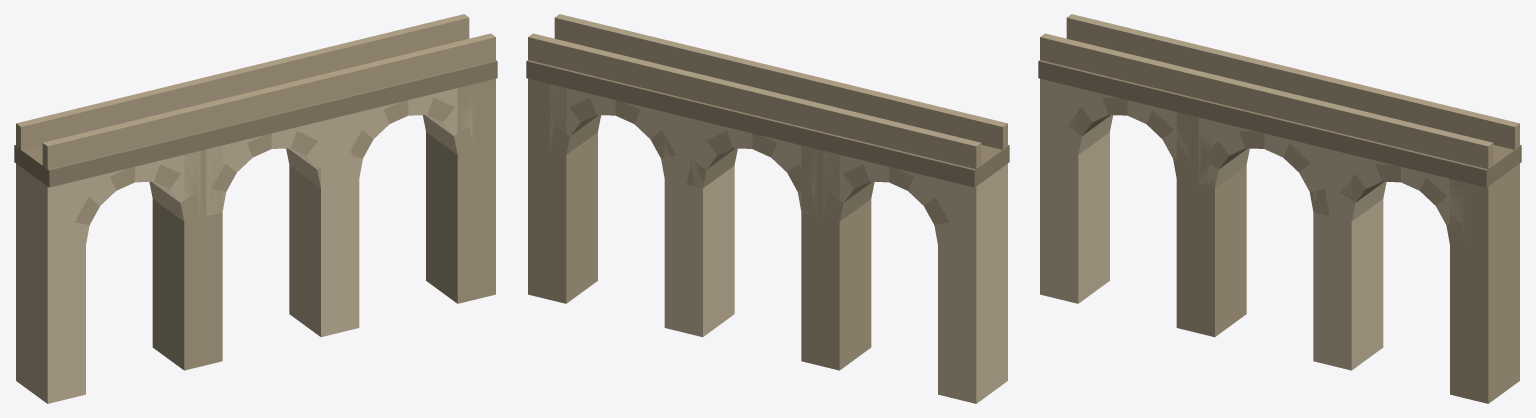
The model's file is aqueduct.glb.
3 views of the same model, side by side, from view 1: azimuth 30°, elevation 25°; view 2: azimuth 150°, elevation 25°; view 3: azimuth 330°, elevation 25° (orthographic).
Visible parts, largest first — view 1: aqueduct2; view 2: aqueduct2; view 3: aqueduct2.
Boxes of the visible parts, x1=… form: aqueduct2: x1=14, y1=14, x2=497, y2=403; aqueduct2: x1=526, y1=14, x2=1009, y2=403; aqueduct2: x1=1038, y1=14, x2=1521, y2=403.
Size of the model in its own units: 6.56 by 3.6 by 0.88.
